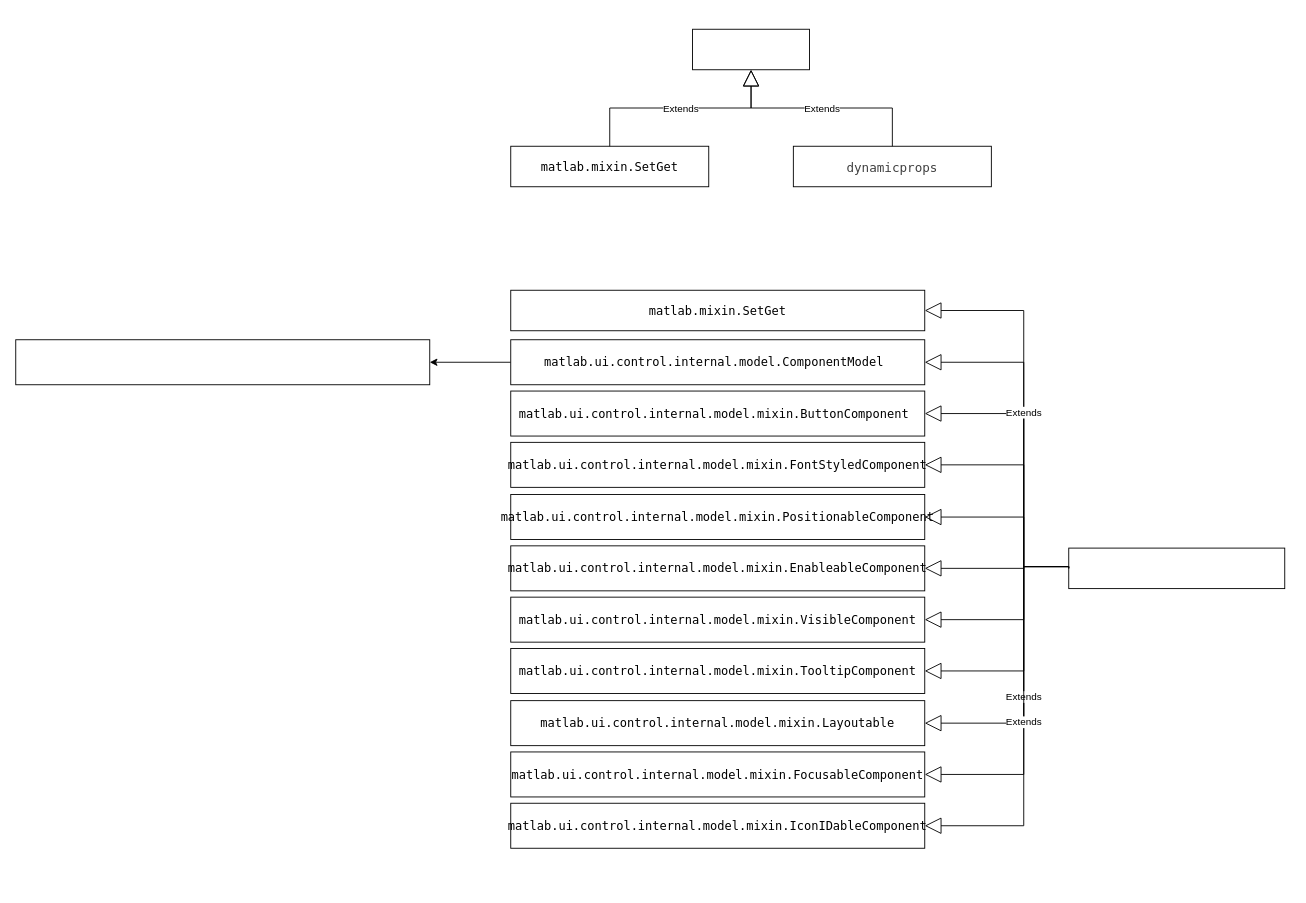
Some shapes in this 1306 by 903 pixel diagram are drawn without their labels. Here are the shapes that lost their labels. From the top down, the centre of each, then its label:
At point (751, 49): "handle".
At point (222, 362): "matlab.ui.control.internal.model.AbstractComponent".
At point (1176, 568): "matlab.ui.control.Button".
